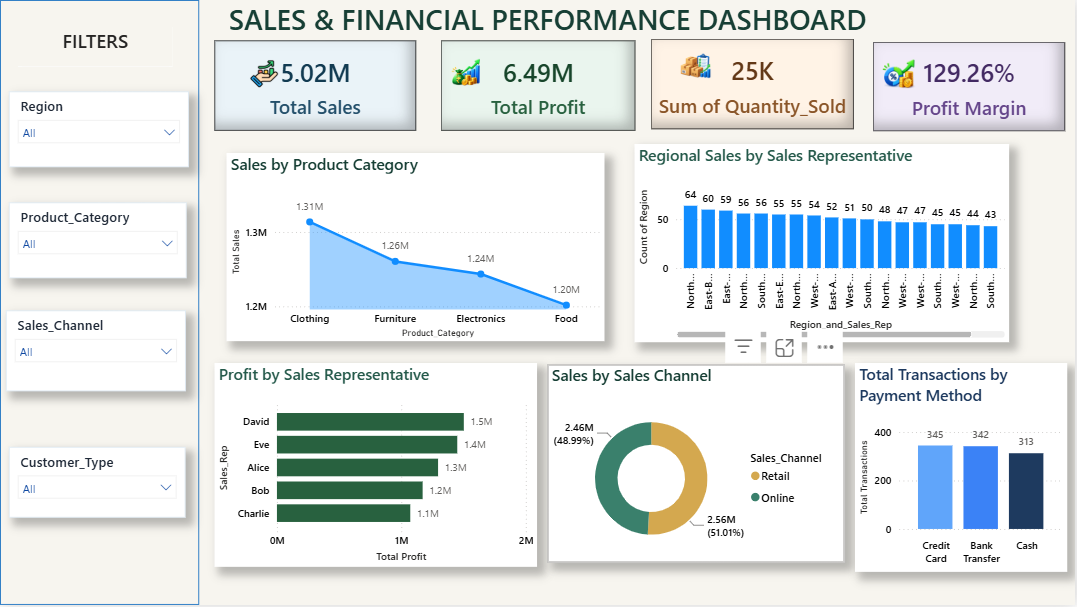

The dashboard page shown, as its layout file describes it:
{"tool":"powerbi","page":{"name":"Page 1","canvas":[1280,720],"ordinal":0},"visuals":[{"type":"textbox","title":"SALES & FINANCIAL PERFORMANCE DASHBOARD","box":[22.9,0,1257.1,50],"z":0},{"type":"card","fields":{"Values":["SalesData.Total Sales"]},"box":[255.7,48.6,240,107.1],"z":1000},{"type":"card","fields":{"Values":["SalesData.Total Profit"]},"box":[524.3,48.6,231.4,107.1],"z":2000},{"type":"card","fields":{"Values":["Sum(SalesData.Quantity_Sold)"]},"box":[775.7,47.1,241.4,107.1],"z":3000},{"type":"card","fields":{"Values":["SalesData.Profit Margin"]},"box":[1038.6,50,228.6,105.7],"z":4000},{"type":"image","box":[295.7,52.9,35.7,68.6],"z":5000},{"type":"image","box":[801.4,54.3,51.4,50],"z":6000},{"type":"image","box":[535.7,67.1,37.1,38.6],"z":7000},{"type":"image","box":[1048.6,67.1,42.9,41.4],"z":8000},{"type":"shape","title":"FILTERS","box":[0,0,237.1,720],"z":9000},{"type":"textbox","title":"FILTERS","box":[21.4,32.9,184.3,47.1],"z":10000},{"type":"slicer","fields":{"Values":["SalesData.Region"]},"box":[10,108.6,214.3,90],"z":11000},{"type":"slicer","fields":{"Values":["SalesData.Product_Category"]},"box":[11.4,241.4,211.4,90],"z":12000},{"type":"slicer","fields":{"Values":["SalesData.Sales_Channel"]},"box":[7.1,370,214.3,95.7],"z":13000},{"type":"slicer","fields":{"Values":["SalesData.Customer_Type"]},"box":[10,531.4,210,84.3],"z":14000},{"type":"lineChart","title":"Sales by Product Category","fields":{"Category":["SalesData.Product_Category"],"Y":["SalesData.Total Sales"]},"box":[270,182.9,450,224.3],"z":15000},{"type":"clusteredColumnChart","title":"Regional Sales by Sales Representative","fields":{"Y":["CountNonNull(SalesData.Region)"],"Category":["SalesData.Region_and_Sales_Rep"]},"box":[755.7,171.4,445.7,235.7],"z":16000},{"type":"clusteredBarChart","title":"Profit by Sales Representative","fields":{"Category":["SalesData.Sales_Rep"],"Y":["SalesData.Total Profit"]},"box":[255.7,431.4,384.3,242.9],"z":17000},{"type":"donutChart","title":"Sales by Sales Channel","fields":{"Category":["SalesData.Sales_Channel"],"Y":["SalesData.Total Sales"]},"box":[651.4,434.3,354.3,235.7],"z":18000},{"type":"clusteredColumnChart","title":"Total Transactions by Payment Method","fields":{"Category":["SalesData.Payment_Method"],"Y":["SalesData.Total Transactions"]},"box":[1017.1,431.4,252.9,248.6],"z":19000}]}

Visuals, with their boxes in screenshot pixels (x1, y1, x2, y2), scaled from the page's 1280x720 canvas onto the 1077x607 screenshot:
"SALES & FINANCIAL PERFORMANCE DASHBOARD" textbox: select_region(19, 0, 1076, 42)
card - SalesData.Total Sales: select_region(215, 41, 417, 131)
card - SalesData.Total Profit: select_region(441, 41, 636, 131)
card - Sum(SalesData.Quantity_Sold): select_region(653, 40, 856, 130)
card - SalesData.Profit Margin: select_region(874, 42, 1066, 131)
image: select_region(249, 45, 279, 102)
image: select_region(674, 46, 718, 88)
image: select_region(451, 57, 482, 89)
image: select_region(882, 57, 918, 91)
"FILTERS" shape: select_region(0, 0, 199, 606)
"FILTERS" textbox: select_region(18, 28, 173, 67)
slicer - SalesData.Region: select_region(8, 92, 189, 167)
slicer - SalesData.Product_Category: select_region(10, 204, 187, 279)
slicer - SalesData.Sales_Channel: select_region(6, 312, 186, 393)
slicer - SalesData.Customer_Type: select_region(8, 448, 185, 519)
"Sales by Product Category" lineChart: select_region(227, 154, 606, 343)
"Regional Sales by Sales Representative" clusteredColumnChart: select_region(636, 144, 1011, 343)
"Profit by Sales Representative" clusteredBarChart: select_region(215, 364, 538, 568)
"Sales by Sales Channel" donutChart: select_region(548, 366, 846, 565)
"Total Transactions by Payment Method" clusteredColumnChart: select_region(856, 364, 1069, 573)
